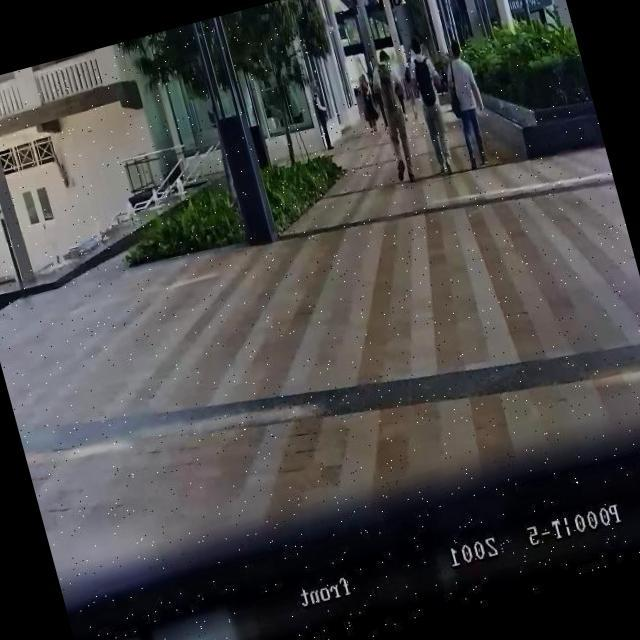person: (397, 32, 465, 178), (434, 37, 499, 173), (364, 48, 426, 185), (353, 72, 382, 135), (310, 86, 338, 150)
